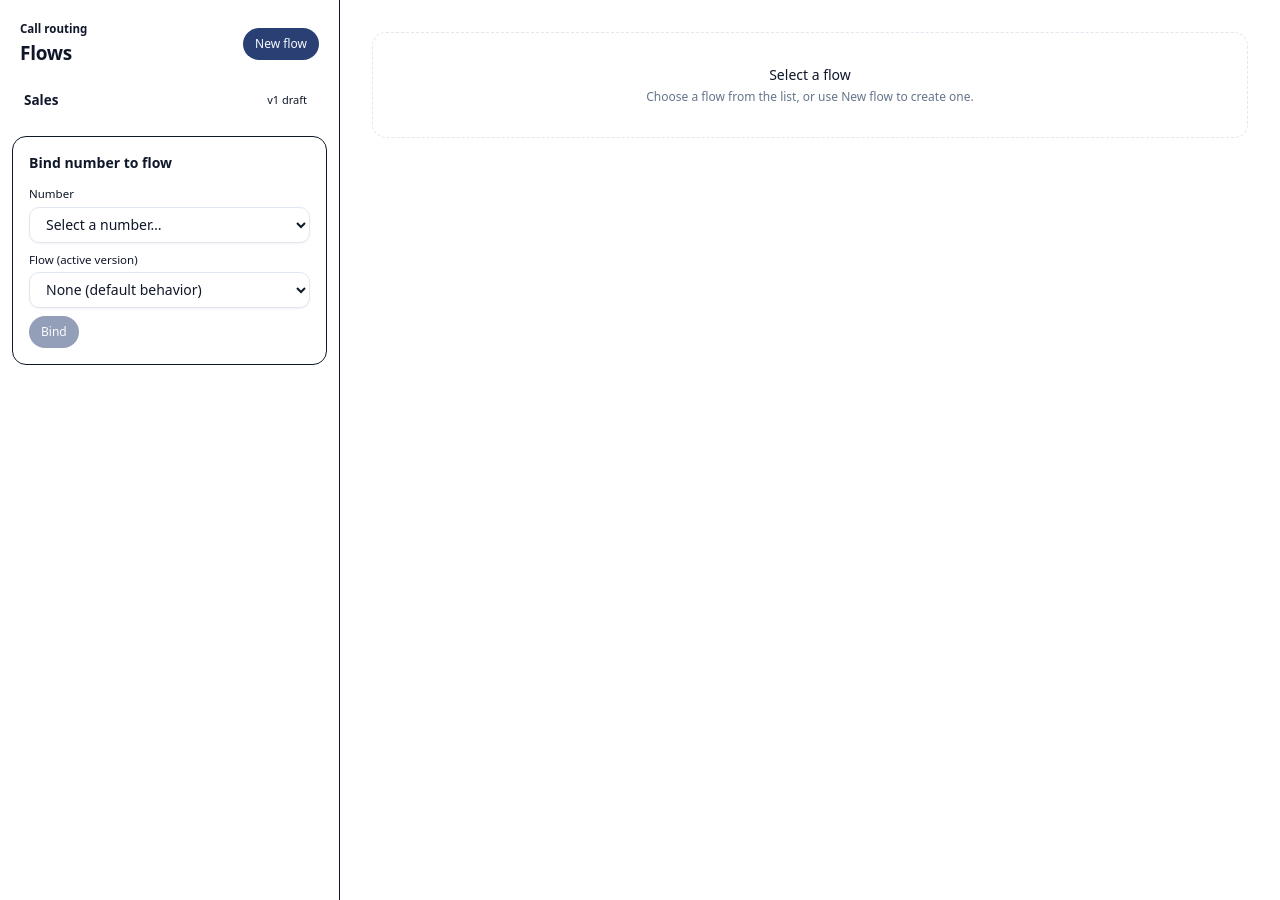
Scenario: FlowsPage › round-trips a transfer node loaded from an existing flow version
Click the button "Sales v1 draft" at (41, 100), box [12,80,327,120]
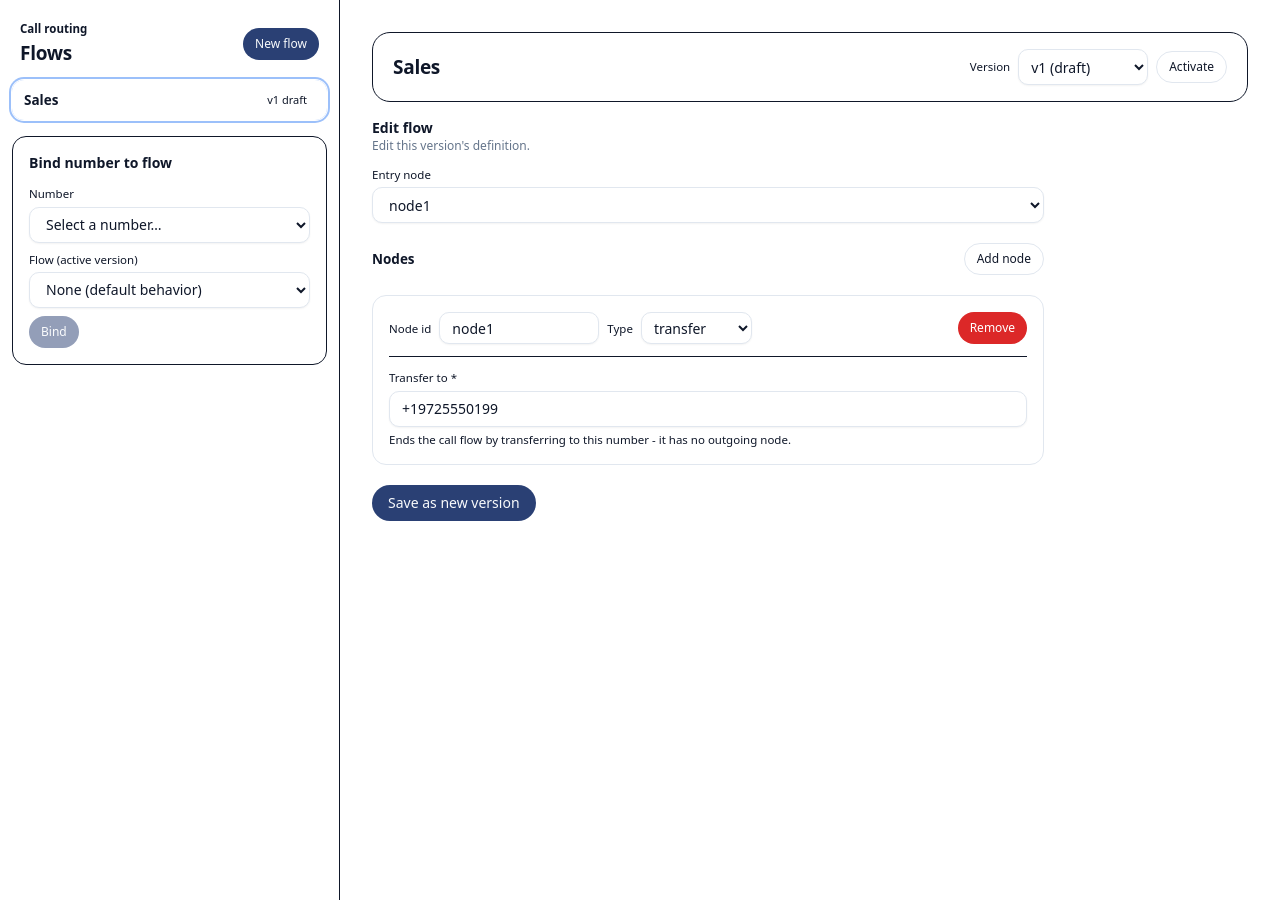
Now the field named "Transfer to for node1" holds "+19725550199", box [389,390,1027,426]
